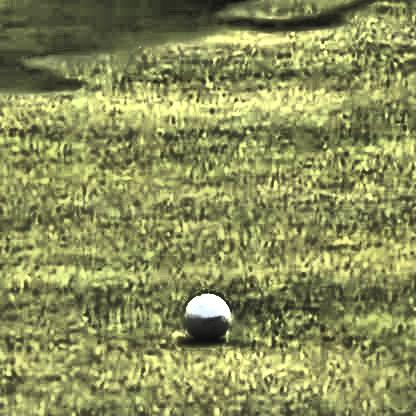golfball: (183, 287, 231, 338)
